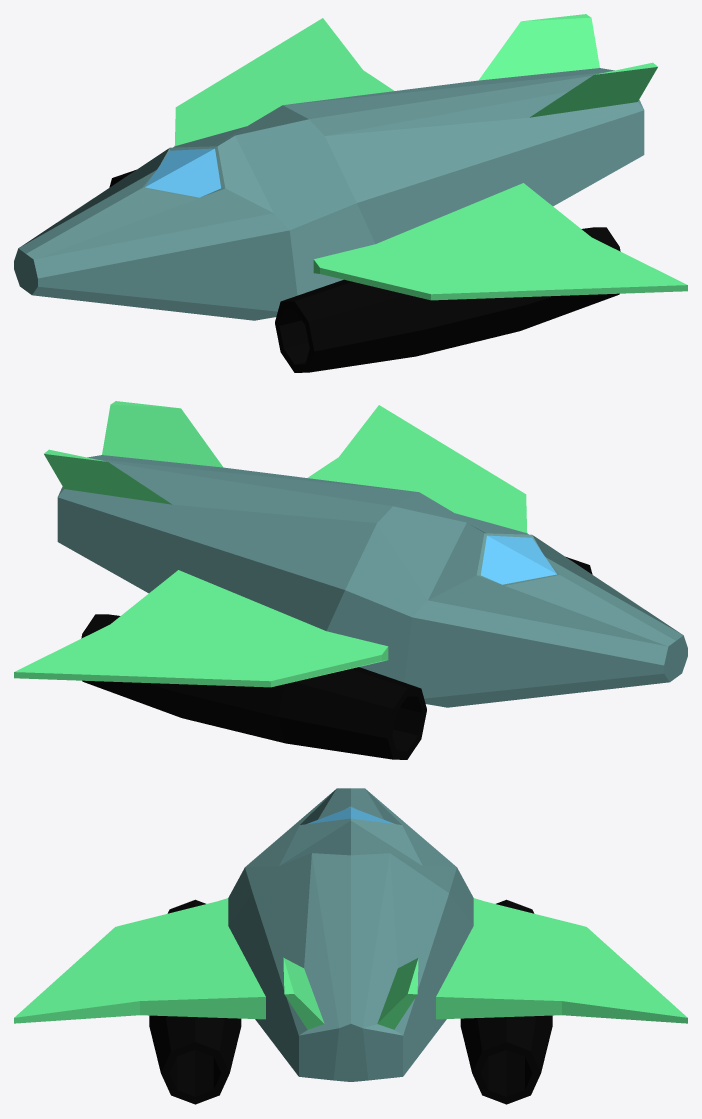
File: explorer3.fbx
The picture shows the model from 3 angles, top to bottom: view 1: azimuth 30°, elevation 25°; view 2: azimuth 150°, elevation 25°; view 3: azimuth 270°, elevation 25°; orthographic projection. The views are drawn at different scales.
Visible parts, largest first — view 1: Explorer3; view 2: Explorer3; view 3: Explorer3.
Part boxes in pixels (<box>): Explorer3: <box>14,14,687,372</box>; Explorer3: <box>14,401,687,759</box>; Explorer3: <box>14,788,687,1104</box>.
Bounding box in the file's own units: 520 × 156 × 549.
